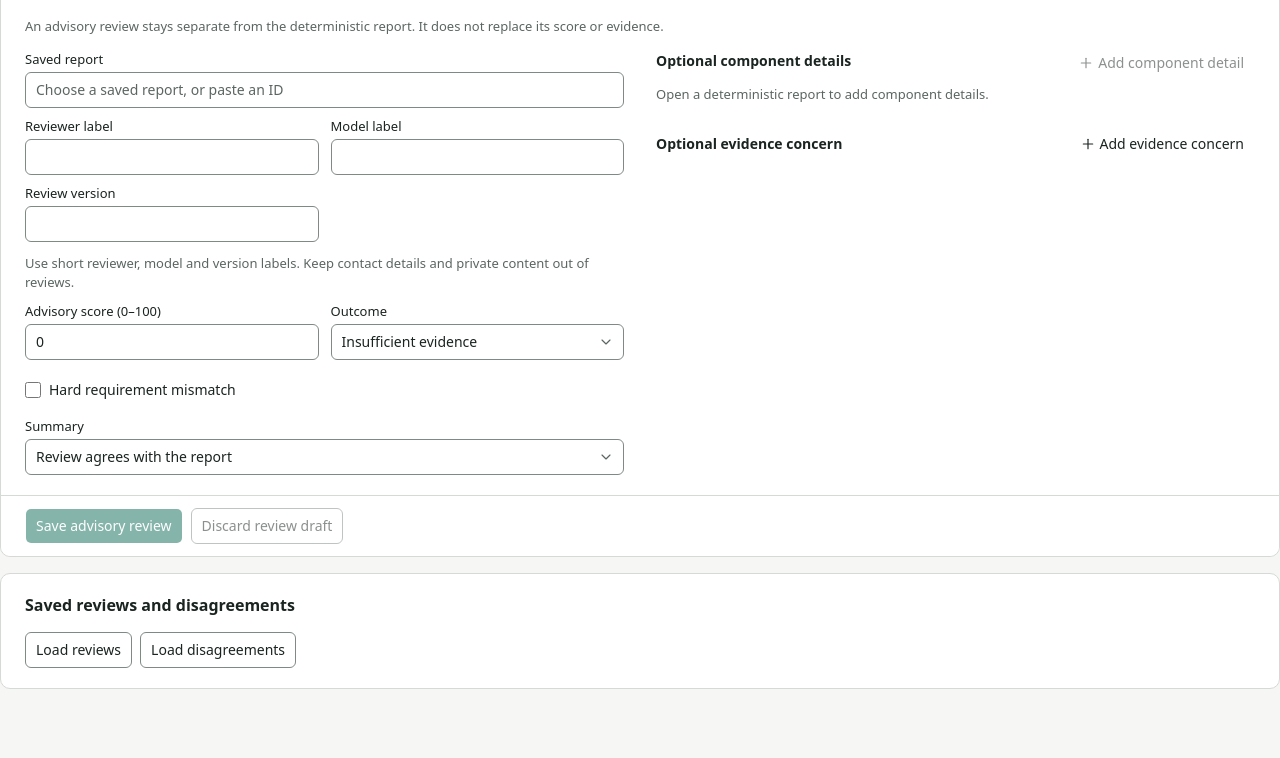
Test: saved reviews and disagreements › records an issue reference only when it is not blank, trimmed
This screenshot has width=1280, height=758.
Expected: the field labelled "Reviewer label" is enabled, [25,138,318,174]
Click the button with test id "loadDisagreementHistoryButton" at (218, 650), box [140,632,296,668]
(page scrolled)
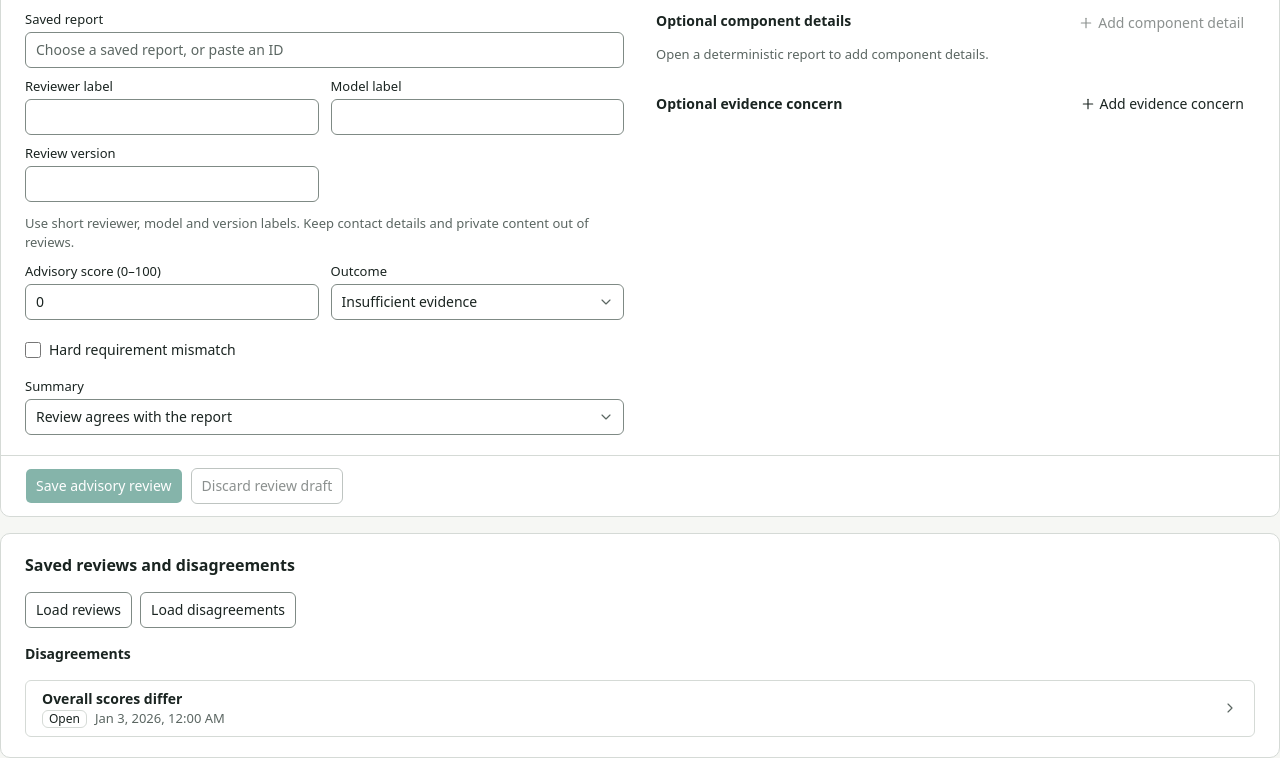
Result: the button with test id "openDisagreementButton" is enabled
Click the button with test id "openDisagreementButton" at (112, 698), box [26,680,1254,736]
(page scrolled)
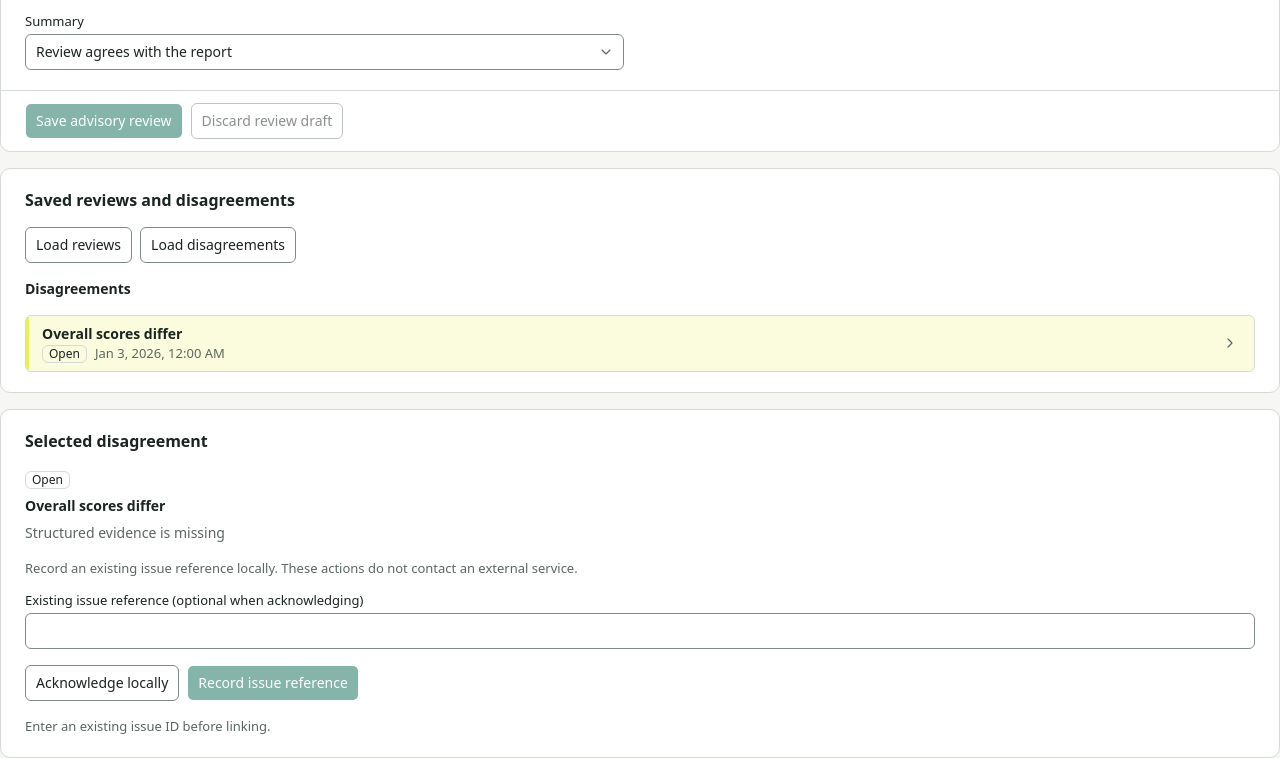
Result: the button with test id "linkMatchDisagreementButton" is disabled at [187,665,359,701]
Result: the text with test id "reviewIssueHint" reads "Enter an existing issue ID before linking." at [25,717,271,735]
Type "  SYN-1  " into the field with test id "existingIssueReferenceInput" at (640, 631), box [25,613,1255,649]
(page scrolled)
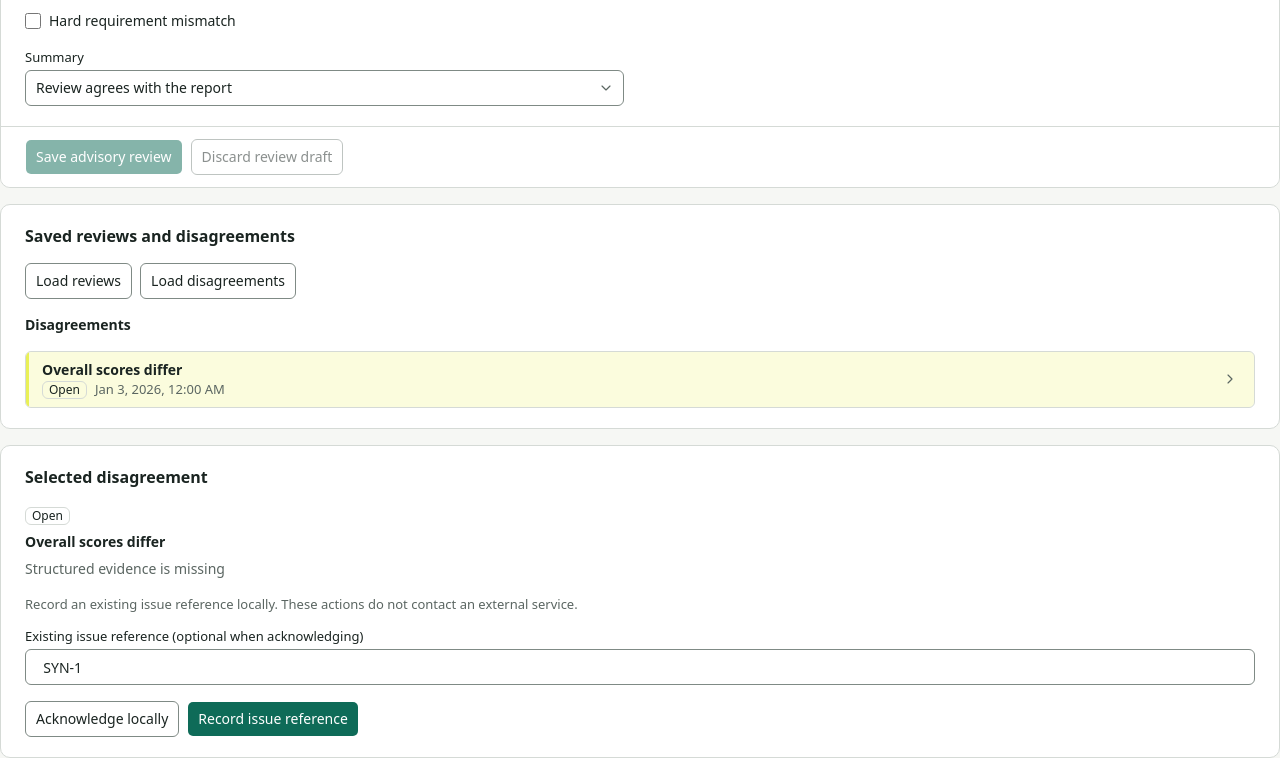
Click the button with test id "linkMatchDisagreementButton" at (273, 719), box [187,701,359,737]
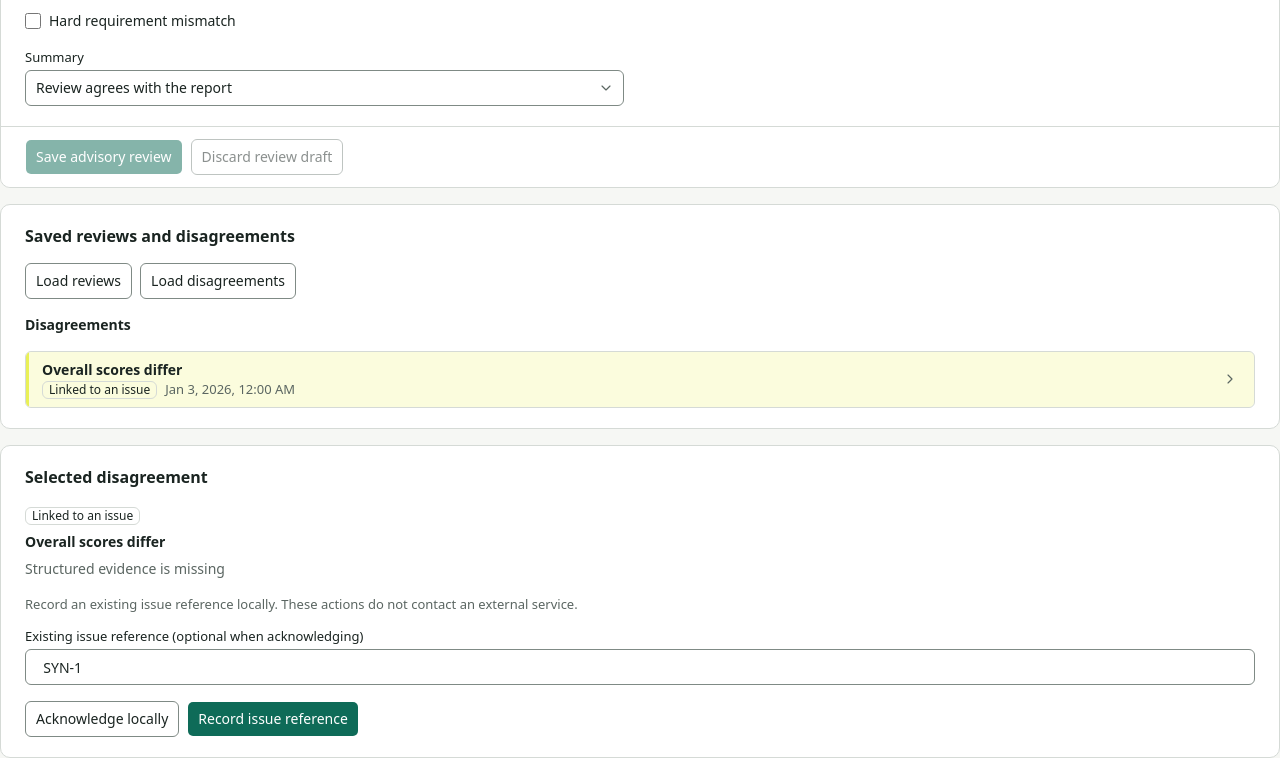
Result: the 1st text "Linked to an issue" is shown at [42,381,157,399]
